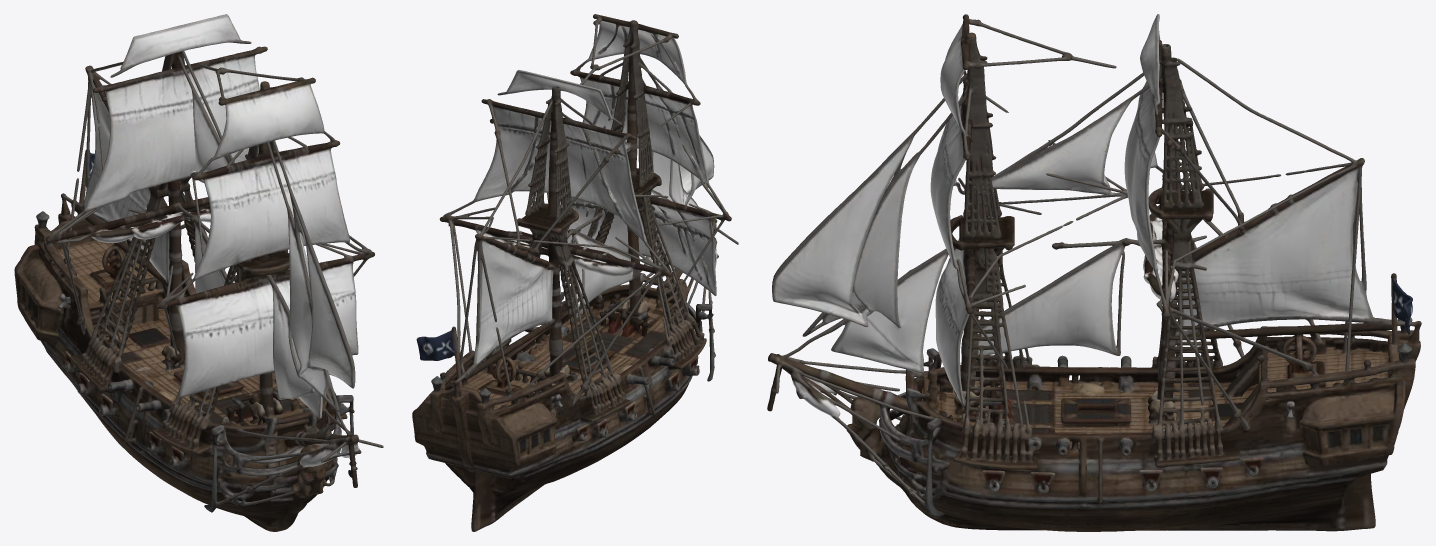
The model's file is Brigantine.glb.
3 views of the same model, side by side, from view 1: azimuth 30°, elevation 25°; view 2: azimuth 150°, elevation 25°; view 3: azimuth 270°, elevation 25° (orthographic). The views are drawn at different scales.
Visible parts, largest first — view 1: geometry_0; view 2: geometry_0; view 3: geometry_0.
Boxes of the visible parts, box(x1,y1,x2,y2) form: geometry_0: box(14, 14, 383, 531); geometry_0: box(412, 14, 738, 531); geometry_0: box(767, 14, 1421, 531).
Size of the model in its own units: 0.513 by 0.8324 by 0.9992.
1 material, 1 textured.
